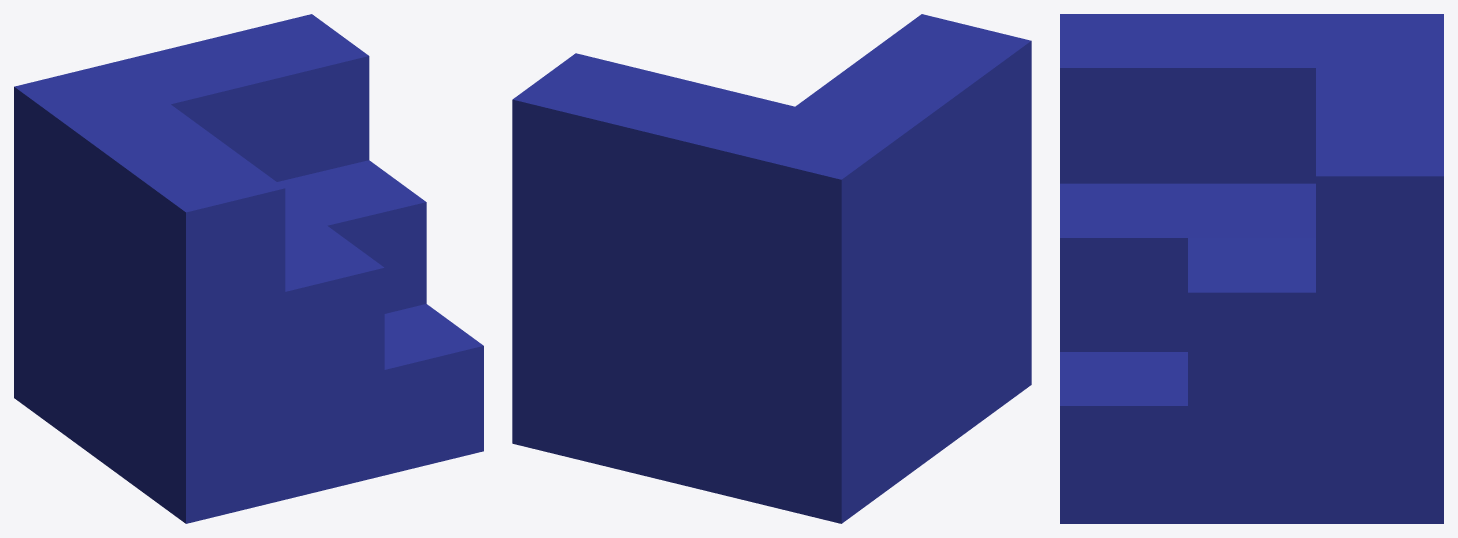
Rendered from scala_corner2.fbx.
3 views of the same model, side by side, from view 1: azimuth 30°, elevation 25°; view 2: azimuth 150°, elevation 25°; view 3: azimuth 270°, elevation 25° (orthographic). The views are drawn at different scales.
Visible parts, largest first — view 1: scala_angolobig; view 2: scala_angolobig; view 3: scala_angolobig.
Part boxes in pixels (x1,y1,x2,y2): scala_angolobig: (14,14,483,523); scala_angolobig: (512,14,1031,523); scala_angolobig: (1060,14,1443,523).
Bounding box in the file's own units: 1 × 0.9995 × 1.
